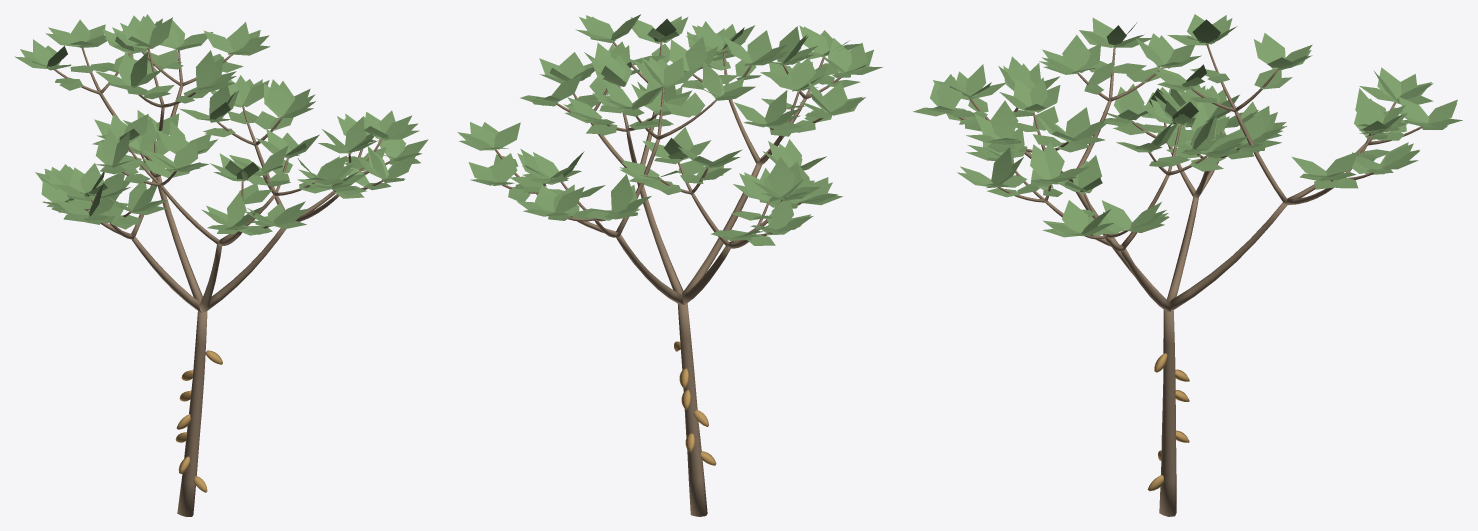
The model's file is tree-cacao.glb.
3 views of the same model, side by side, from view 1: azimuth 30°, elevation 25°; view 2: azimuth 150°, elevation 25°; view 3: azimuth 270°, elevation 25° (orthographic). The views are drawn at different scales.
Visible parts, largest first — view 1: Foliage, Wood; view 2: Foliage, Wood; view 3: Foliage, Wood.
Boxes of the visible parts, x1=… form: Foliage: x1=14, y1=14, x2=428, y2=235; Wood: x1=51, y1=45, x2=389, y2=516; Foliage: x1=457, y1=14, x2=882, y2=245; Wood: x1=494, y1=41, x2=845, y2=516; Foliage: x1=913, y1=14, x2=1462, y2=237; Wood: x1=958, y1=43, x2=1427, y2=516.
Size of the model in its own units: 4.14 by 5.46 by 5.65.
